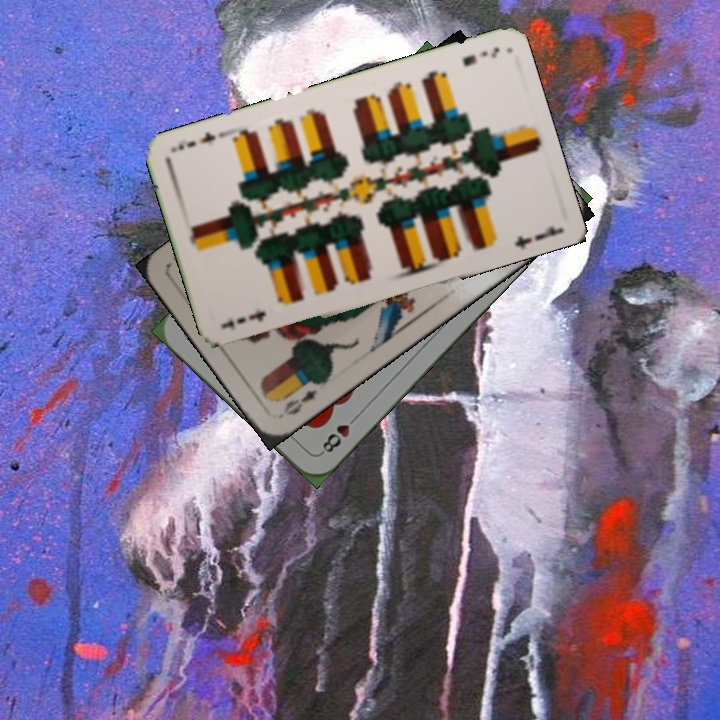E7: (459, 42, 502, 69), (233, 304, 268, 327)
EO: (279, 385, 320, 418)
H8: (316, 410, 362, 457)
